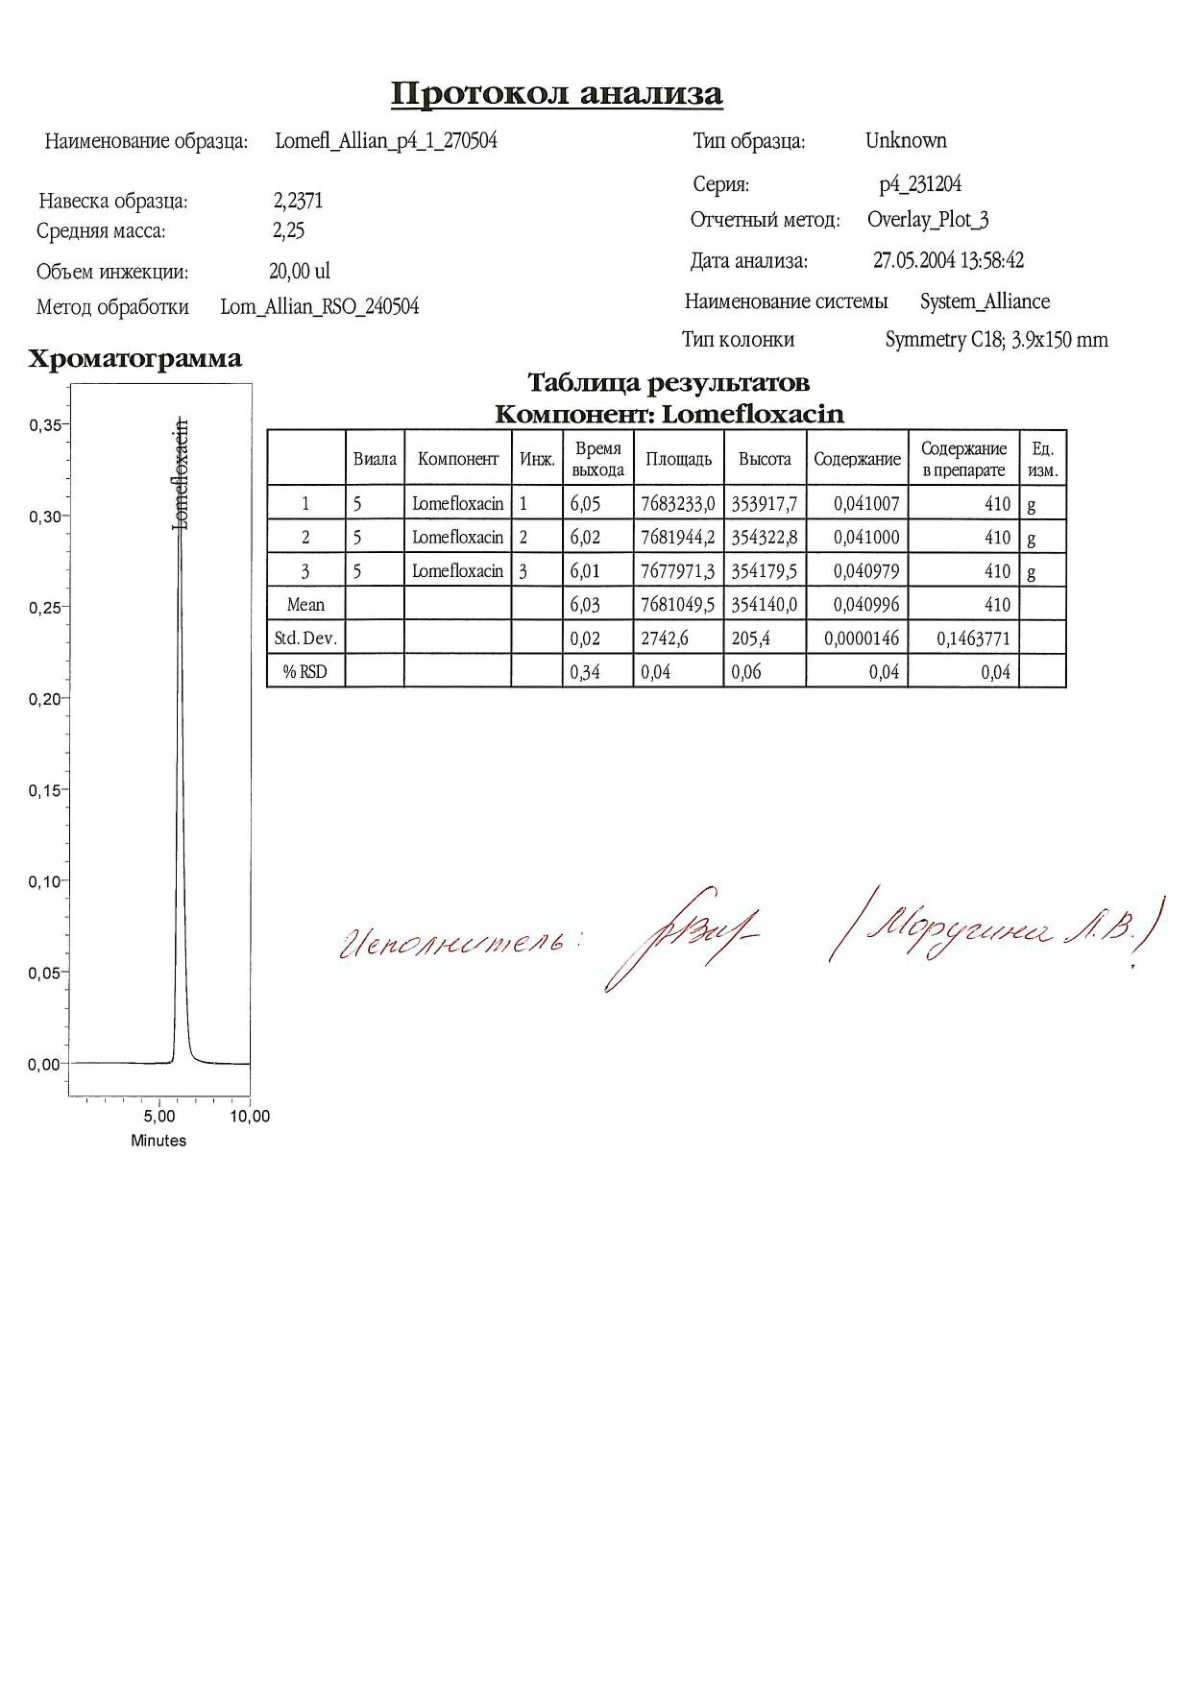full_lined: (264, 426, 1068, 690)
nolines: (34, 126, 1113, 352)
